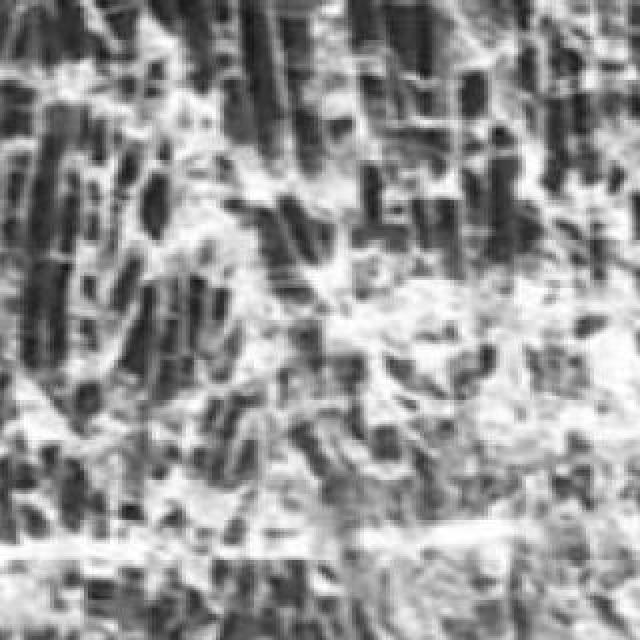Physical-damage: (63, 153, 431, 459), (292, 55, 596, 257), (165, 362, 399, 605), (308, 300, 562, 406)
